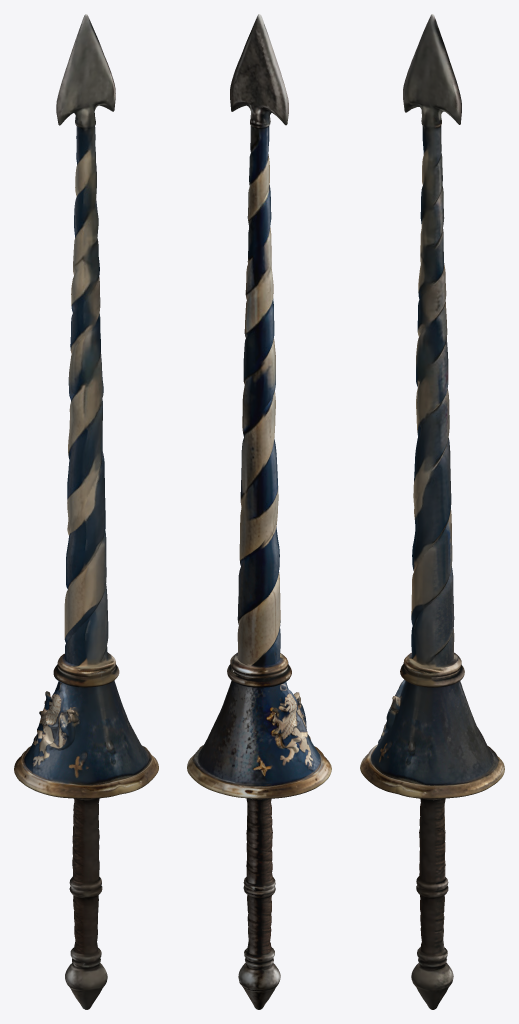
The model's file is blue_jousting_lance.glb.
3 renders of one model, left to right at view 1: azimuth 30°, elevation 25°; view 2: azimuth 150°, elevation 25°; view 3: azimuth 330°, elevation 25°, orthographic.
Visible parts, largest first — view 1: blue_jousting_lance; view 2: blue_jousting_lance; view 3: blue_jousting_lance.
Part boxes in pixels (x1,y1,x2,y2): blue_jousting_lance: (14,14,158,1009); blue_jousting_lance: (187,14,331,1009); blue_jousting_lance: (360,14,504,1009).
Bounding box in the file's own units: 0.3952 × 3 × 0.3846.
Materials: 1 (1 with a texture image).
